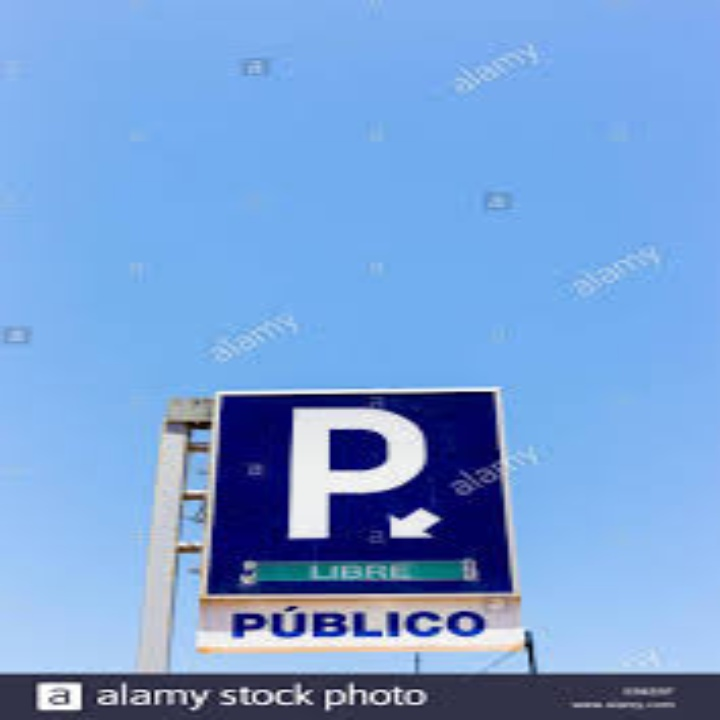parking: (286, 402, 430, 542)
